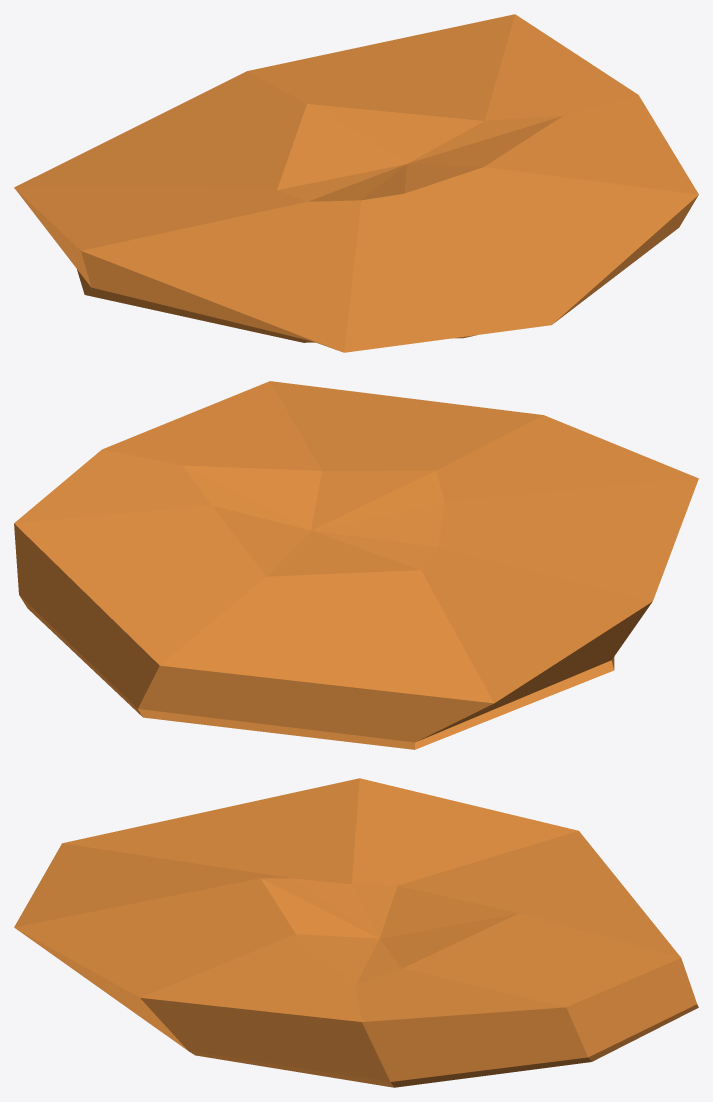
The picture shows the model from 3 angles, top to bottom: view 1: azimuth 30°, elevation 25°; view 2: azimuth 150°, elevation 25°; view 3: azimuth 270°, elevation 25°; orthographic projection. The views are drawn at different scales.
Visible parts, largest first — view 1: Circle; view 2: Circle; view 3: Circle.
Part boxes in pixels (x1=…): Circle: x1=14, y1=14, x2=698, y2=352; Circle: x1=14, y1=381, x2=698, y2=749; Circle: x1=14, y1=778, x2=698, y2=1087.
Bounding box in the file's own units: 9.7 × 1.76 × 10.4.
